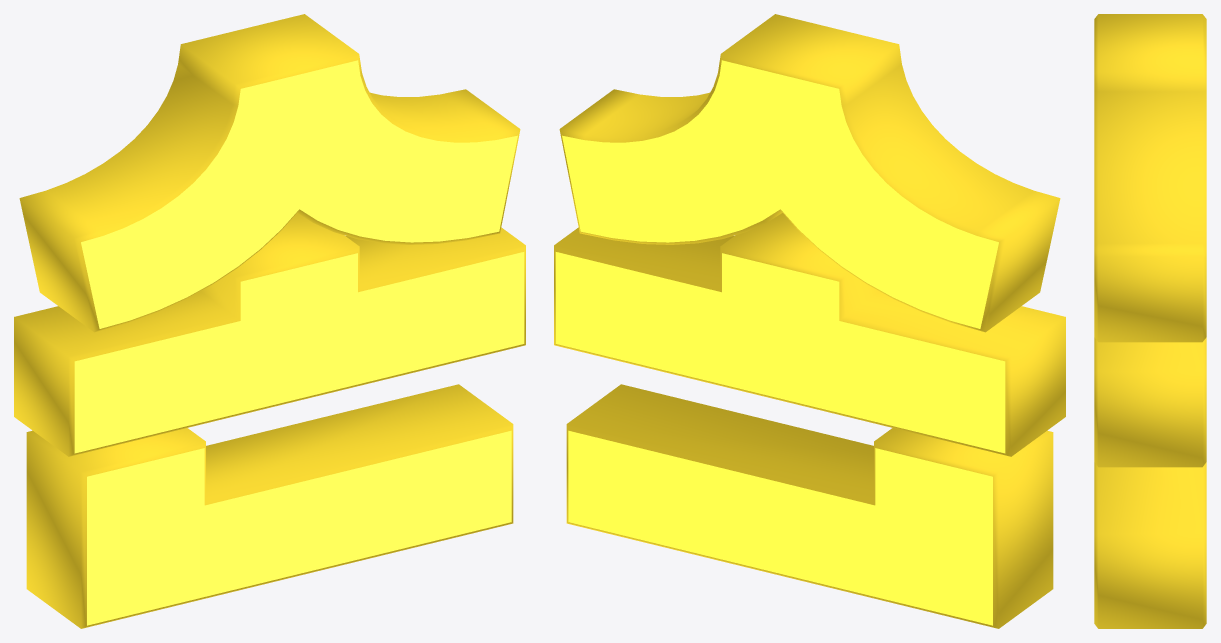
The picture shows the model from 3 angles, left to right: view 1: azimuth 30°, elevation 25°; view 2: azimuth 150°, elevation 25°; view 3: azimuth 270°, elevation 25°; orthographic projection. The views are drawn at different scales.
Parts seen in each view (by area): view 1: glyph; view 2: glyph; view 3: glyph.
Part boxes in pixels (<box>): glyph: <box>14,14,525,628</box>; glyph: <box>554,14,1065,628</box>; glyph: <box>1094,14,1206,628</box>.
Size of the model in its own units: 0.0726 by 0.077 by 0.0162.
